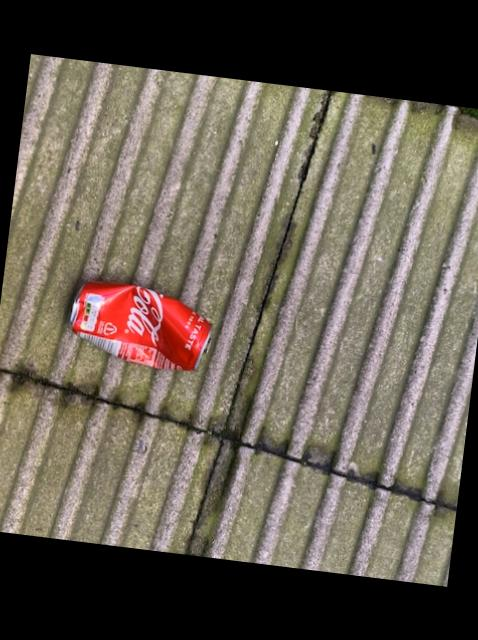metal: (68, 282, 208, 371)
